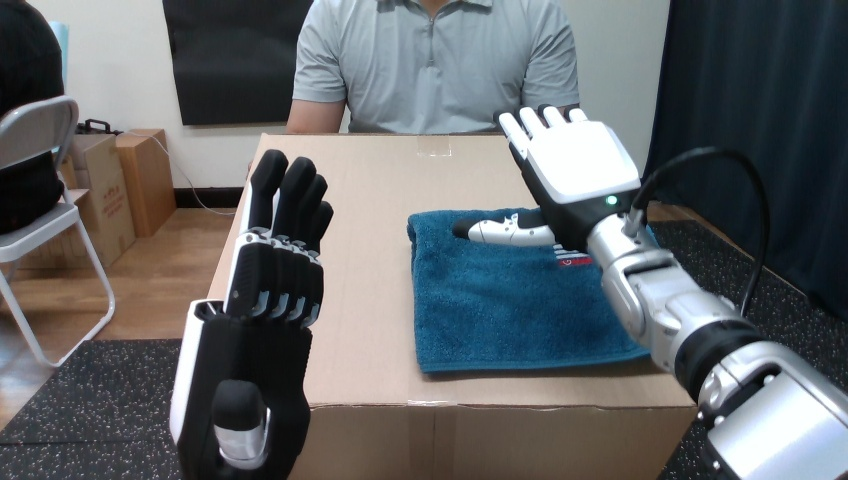left robot hand: (453, 107, 847, 478), (170, 150, 332, 478), (645, 156, 762, 309)
